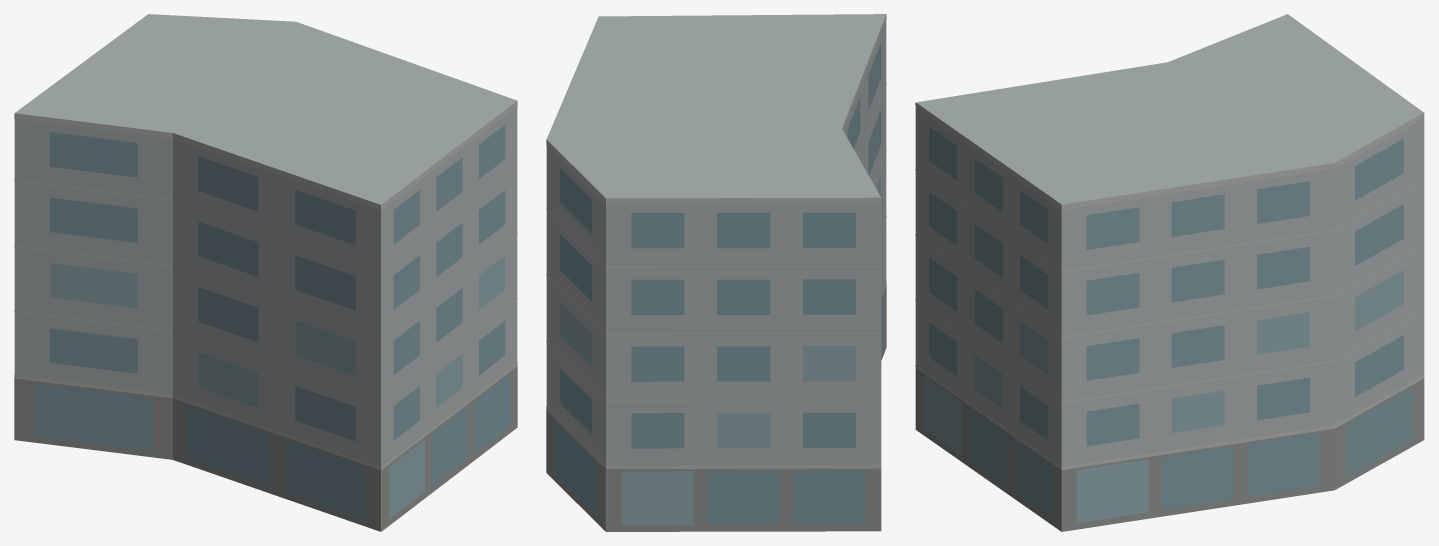
File: survey-upis-32962275.glb
3 renders of one model, left to right at view 1: azimuth 30°, elevation 25°; view 2: azimuth 150°, elevation 25°; view 3: azimuth 270°, elevation 25°, orthographic. The views are drawn at different scales.
Visible parts, largest first — view 1: survey-upis-32962275.tmp; view 2: survey-upis-32962275.tmp; view 3: survey-upis-32962275.tmp.
Part boxes in pixels (x1,y1,x2,y2): survey-upis-32962275.tmp: [14, 14, 517, 531]; survey-upis-32962275.tmp: [546, 14, 886, 531]; survey-upis-32962275.tmp: [915, 14, 1424, 531].
Bounding box in the file's own units: 17.63 × 14.1 × 19.87.
